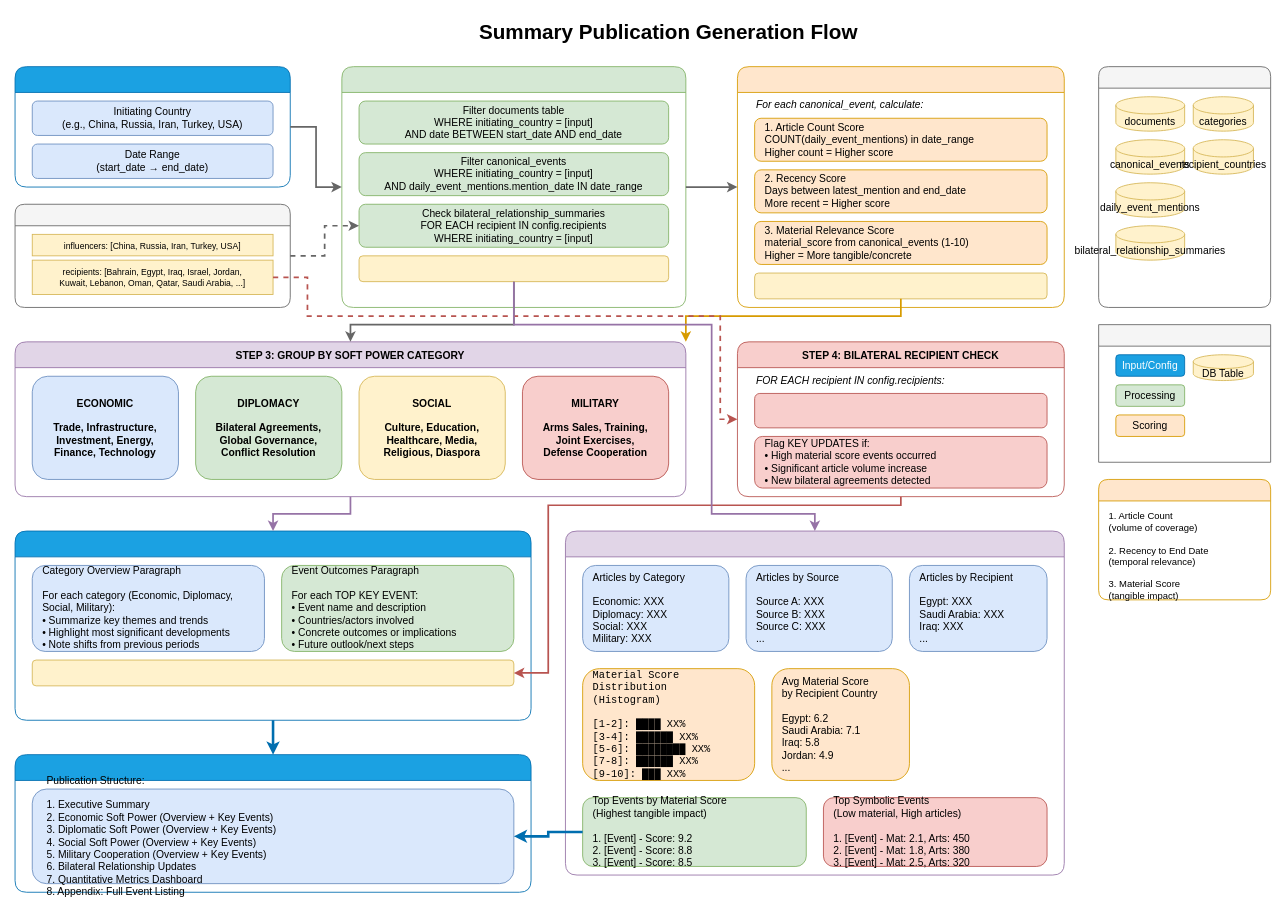
This 1286x912 diagram has some shape labels left out. Each missing label, with the box of its shape:
Bilateral Updates Section (if key updates flagged): (31, 659, 514, 686)
Combined Score = w1*articles + w2*recency + w3*material: (754, 272, 1047, 299)
config.yaml: (14, 203, 290, 307)
DATABASE TABLES USED: (1098, 66, 1271, 307)
FINAL OUTPUT: SUMMARY PUBLICATION: (14, 754, 531, 892)
INPUT PARAMETERS: (14, 66, 290, 187)
KEY EVENT SELECTION CRITERIA: (1098, 479, 1271, 600)
LEGEND: (1098, 324, 1271, 462)
Query events WHERE recipient_country = recipient AND mention_date IN date_range: (754, 393, 1047, 428)
Result: Filtered dataset for analysis: (358, 255, 669, 282)
STEP 1: DATA FILTERING: (341, 66, 686, 307)
STEP 2: KEY EVENT SCORING: (737, 66, 1064, 307)
STEP 5: CONTENT GENERATION (LLM: gpt-4o-mini): (14, 530, 531, 720)
STEP 6: QUANTITATIVE METRICS: (565, 530, 1064, 875)
